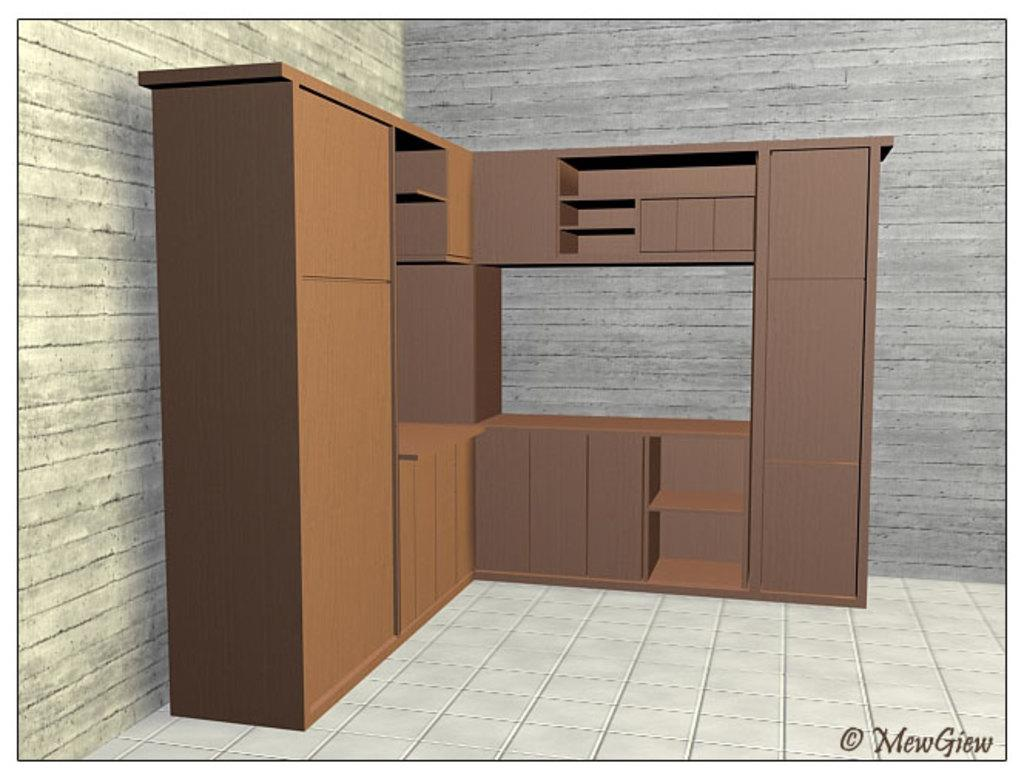cabinet_door: (302, 280, 394, 656), (770, 280, 862, 458), (297, 98, 391, 268), (766, 464, 860, 594), (770, 155, 866, 276), (474, 156, 558, 256), (530, 431, 590, 561), (587, 438, 641, 573), (472, 436, 534, 550), (413, 454, 436, 606), (449, 446, 475, 572), (400, 458, 418, 623), (434, 448, 454, 588), (447, 154, 471, 256), (714, 200, 756, 254), (674, 201, 712, 254), (640, 198, 674, 254)
